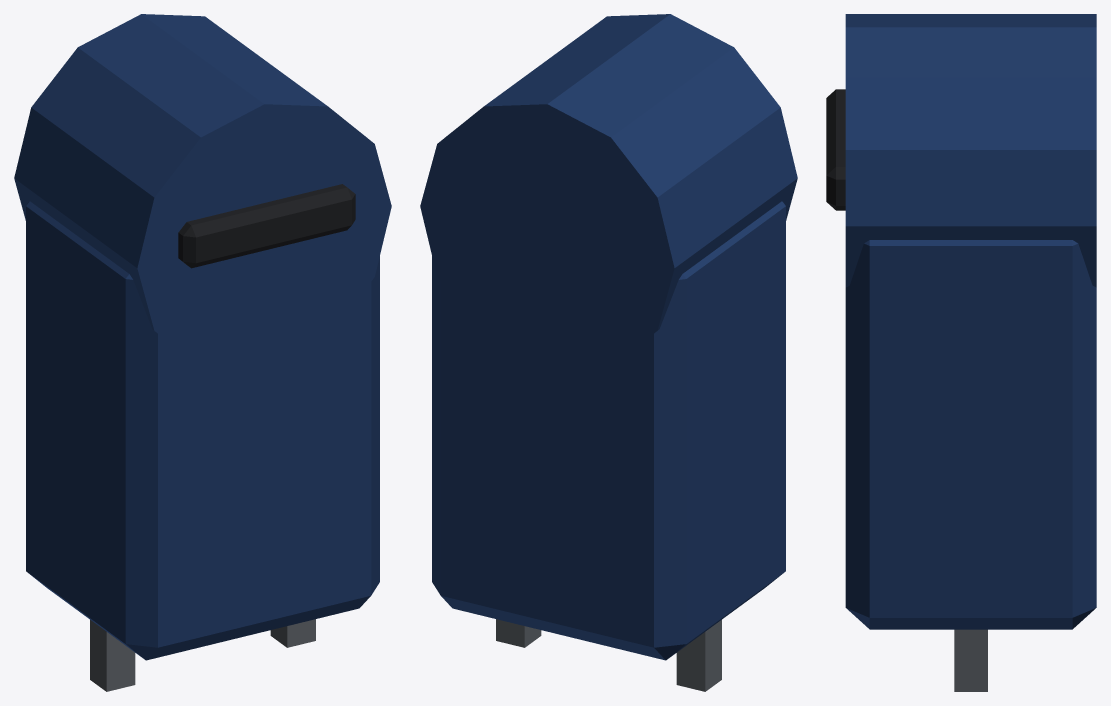
Rendered from VG_Mailbox.fbx.
The picture shows the model from 3 angles, left to right: view 1: azimuth 30°, elevation 25°; view 2: azimuth 150°, elevation 25°; view 3: azimuth 270°, elevation 25°; orthographic projection.
Visible parts, largest first — view 1: VG_Mailbox_Mesh; view 2: VG_Mailbox_Mesh; view 3: VG_Mailbox_Mesh.
Boxes of the visible parts, x1,y1,x2,y2 form: VG_Mailbox_Mesh: [14, 14, 391, 691]; VG_Mailbox_Mesh: [420, 14, 797, 691]; VG_Mailbox_Mesh: [826, 14, 1096, 691].
Bounding box in the file's own units: 0.62 × 1.4 × 0.56.
